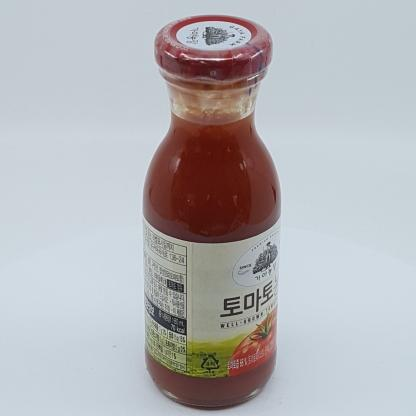-------180ML: (142, 14, 281, 406)
